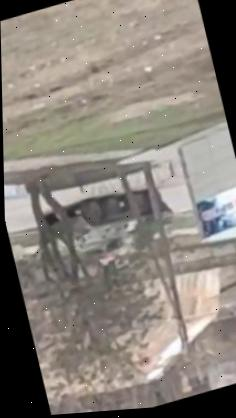tank: (40, 177, 178, 272)
